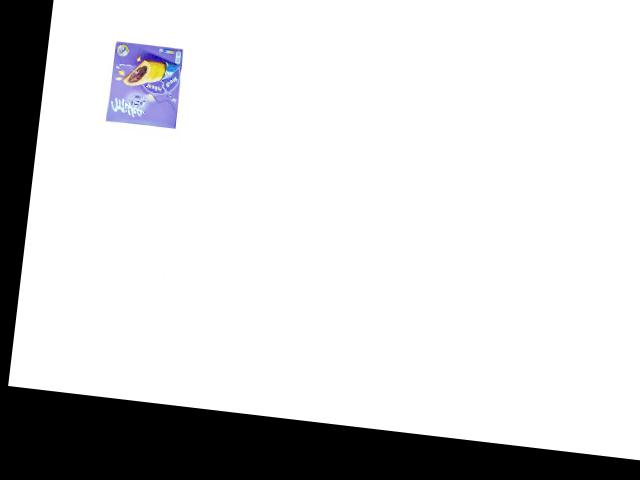chocolate: (101, 35, 188, 134)
